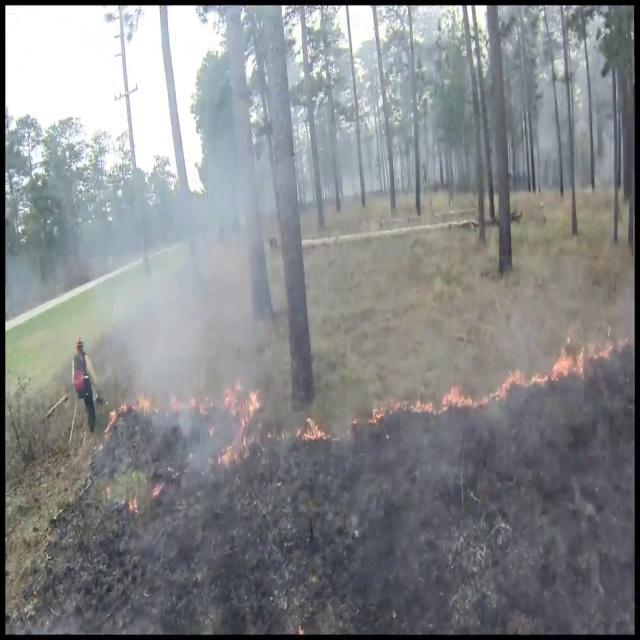Fire: (528, 324, 640, 388), (410, 362, 516, 418), (220, 378, 264, 460), (296, 408, 328, 444)
Smoke: (115, 108, 298, 482)
